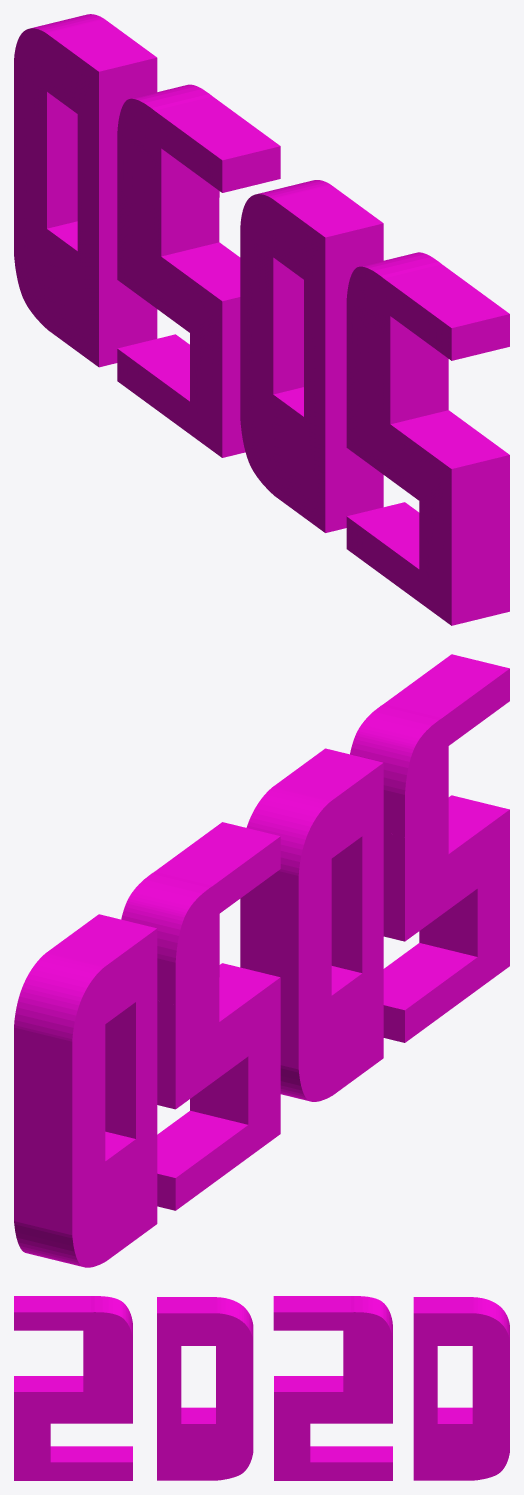
File: start_pink.gltf
3 views of the same model, one above another, from view 1: azimuth 30°, elevation 25°; view 2: azimuth 150°, elevation 25°; view 3: azimuth 270°, elevation 25° (orthographic). The views are drawn at different scales.
Visible parts, largest first — view 1: Cap 1 (×4), ורוד, ורוד.2, ורוד.1, ורוד.3; view 2: Cap 1 (×4), ורוד.3, ורוד, ורוד.2, ורוד.1; view 3: Cap 2 (×4), ורוד.2, ורוד, ורוד.3, ורוד.1.
Part boxes in pixels (left/top/right/bottom): Cap 1 (×4): left=14, top=28, right=451, bottom=625; ורוד: left=347, top=252, right=509, bottom=625; ורוד.2: left=117, top=84, right=280, bottom=457; ורוד.1: left=257, top=180, right=383, bottom=532; ורוד.3: left=30, top=14, right=157, bottom=367; Cap 1 (×4): left=72, top=668, right=509, bottom=1267; ורוד.3: left=14, top=914, right=156, bottom=1266; ורוד: left=350, top=654, right=509, bottom=1042; ורוד.2: left=121, top=822, right=280, bottom=1210; ורוד.1: left=240, top=748, right=382, bottom=1101; Cap 2 (×4): left=14, top=1312, right=509, bottom=1480; ורוד.2: left=273, top=1296, right=392, bottom=1462; ורוד: left=14, top=1296, right=132, bottom=1462; ורוד.3: left=413, top=1297, right=509, bottom=1423; ורוד.1: left=157, top=1297, right=253, bottom=1423.
Size of the model in its own units: 200 by 977 by 2600.
